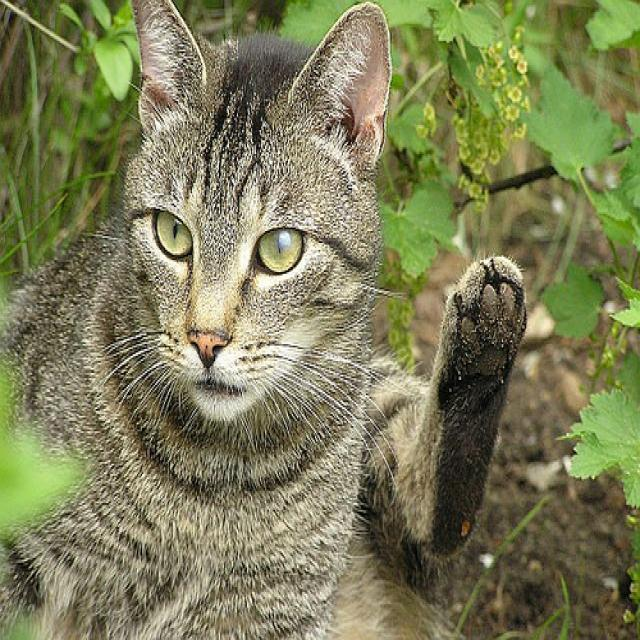left eye: (254, 222, 308, 276)
